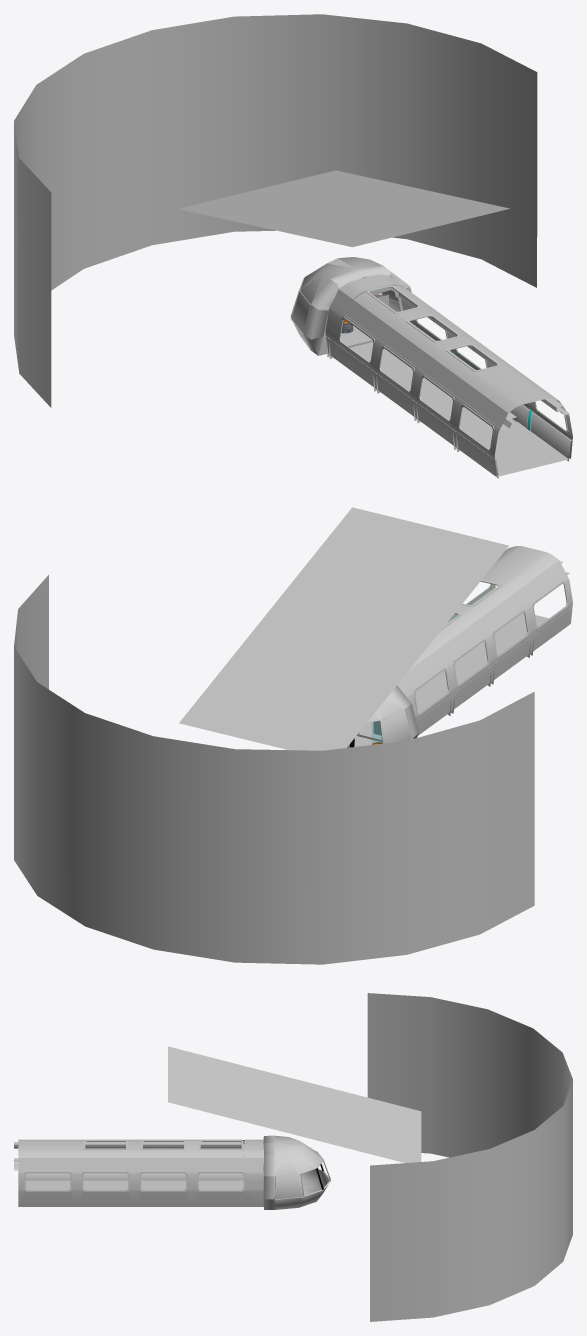
The picture shows the model from 3 angles, top to bottom: view 1: azimuth 30°, elevation 25°; view 2: azimuth 150°, elevation 25°; view 3: azimuth 270°, elevation 25°; orthographic projection. The views are drawn at different scales.
Parts seen in each view (by area): view 1: pCylinder7, Sphere001, pPlane34, Object001, pPlane1; view 2: pCylinder7, pPlane34, Sphere001, Object001; view 3: pCylinder7, pPlane34, Sphere001, Object001, pPlane21, Loft003.
Boxes of the visible parts, x1,y1,x2,y2 form: pCylinder7: (14,14,537,407); Sphere001: (325,274,572,476); pPlane34: (178,170,509,247); Object001: (290,257,411,355); pPlane1: (410,322,571,461); pCylinder7: (14,575,534,964); pPlane34: (179,507,508,750); Sphere001: (359,546,572,739); Object001: (349,685,418,747); pCylinder7: (367,993,572,1321); pPlane34: (168,1046,421,1162); Sphere001: (18,1139,263,1206); Object001: (263,1135,330,1209); pPlane21: (25,1173,243,1180); Loft003: (14,1142,241,1148).
Bounding box in the file's own units: 1523 × 663 × 2086.
